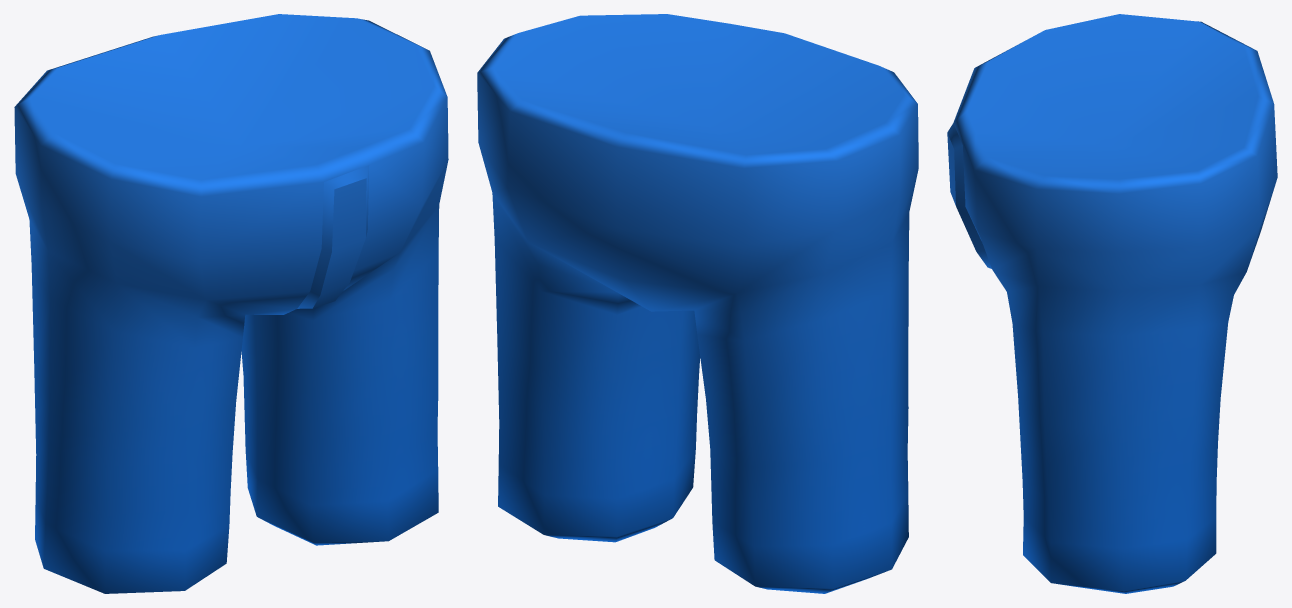
The model's file is Bottom_14.fbx.
The picture shows the model from 3 angles, left to right: view 1: azimuth 30°, elevation 25°; view 2: azimuth 150°, elevation 25°; view 3: azimuth 270°, elevation 25°; orthographic projection. The views are drawn at different scales.
Visible parts, largest first — view 1: Bottom_14; view 2: Bottom_14; view 3: Bottom_14.
Part boxes in pixels (<box>): Bottom_14: <box>14,14,448,593</box>; Bottom_14: <box>477,14,918,593</box>; Bottom_14: <box>947,14,1277,593</box>.
Size of the model in its own units: 38.53 by 42.7 by 30.23.
